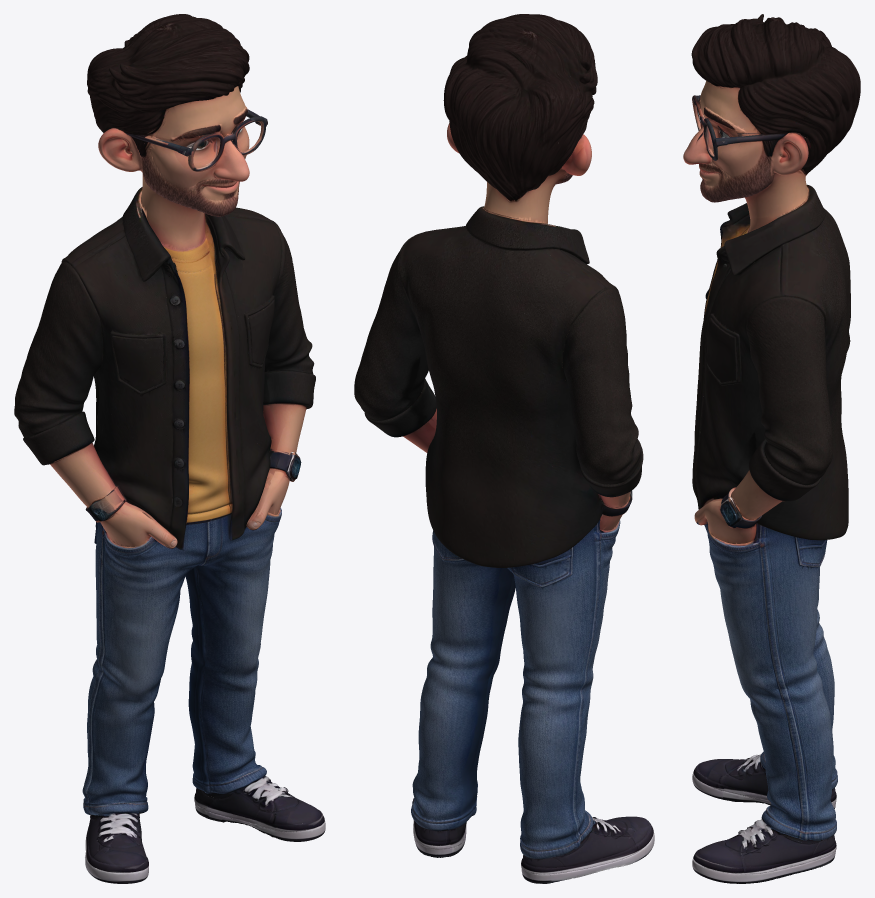
File: Venky-Avatar-optimized.glb
The picture shows the model from 3 angles, left to right: view 1: azimuth 30°, elevation 25°; view 2: azimuth 150°, elevation 25°; view 3: azimuth 270°, elevation 25°; orthographic projection.
Parts seen in each view (by area): view 1: tripo_part_0, tripo_part_2, tripo_part_3, tripo_part_1, tripo_part_4, tripo_part_11, tripo_part_5, tripo_part_13, tripo_part_9, tripo_part_17, tripo_part_12, tripo_part_8 (+9 smaller); view 2: tripo_part_0, tripo_part_2, tripo_part_1, tripo_part_3, tripo_part_4, tripo_part_5, tripo_part_8, tripo_part_12, tripo_part_9, tripo_part_13, tripo_part_14, tripo_part_20; view 3: tripo_part_0, tripo_part_3, tripo_part_1, tripo_part_5, tripo_part_9, tripo_part_7, tripo_part_17, tripo_part_8, tripo_part_12, tripo_part_2, tripo_part_21, tripo_part_20 (+7 smaller).
Part boxes in pixels (x1,y1,x2,y2): tripo_part_0: (61,187,281,550); tripo_part_2: (82,522,207,826); tripo_part_3: (185,507,281,797); tripo_part_1: (87,14,249,136); tripo_part_4: (14,261,103,465); tripo_part_11: (171,225,232,524); tripo_part_5: (263,220,315,409); tripo_part_13: (50,443,154,547); tripo_part_9: (194,786,325,841); tripo_part_17: (150,86,249,191); tripo_part_12: (123,131,210,261); tripo_part_8: (85,818,148,883); tripo_part_0: (399,206,618,567); tripo_part_2: (507,520,620,859); tripo_part_1: (443,14,597,201); tripo_part_3: (411,530,515,831); tripo_part_4: (562,287,643,497); tripo_part_5: (354,236,436,437); tripo_part_8: (521,816,654,883); tripo_part_12: (483,168,567,223); tripo_part_9: (413,796,477,857); tripo_part_13: (599,491,632,530); tripo_part_14: (561,134,591,175); tripo_part_20: (403,408,436,452); tripo_part_0: (692,184,850,540); tripo_part_3: (704,524,836,843); tripo_part_1: (691,14,860,174); tripo_part_5: (746,295,832,501); tripo_part_9: (692,831,836,883); tripo_part_7: (699,132,808,202); tripo_part_17: (700,81,761,183); tripo_part_8: (692,758,836,808); tripo_part_12: (743,168,808,234); tripo_part_2: (756,570,837,789); tripo_part_21: (694,499,757,544); tripo_part_20: (731,470,782,520).
Bounding box in the file's own units: 0.3396 × 0.9393 × 0.1869.
Materials: 30 (30 with a texture image).
